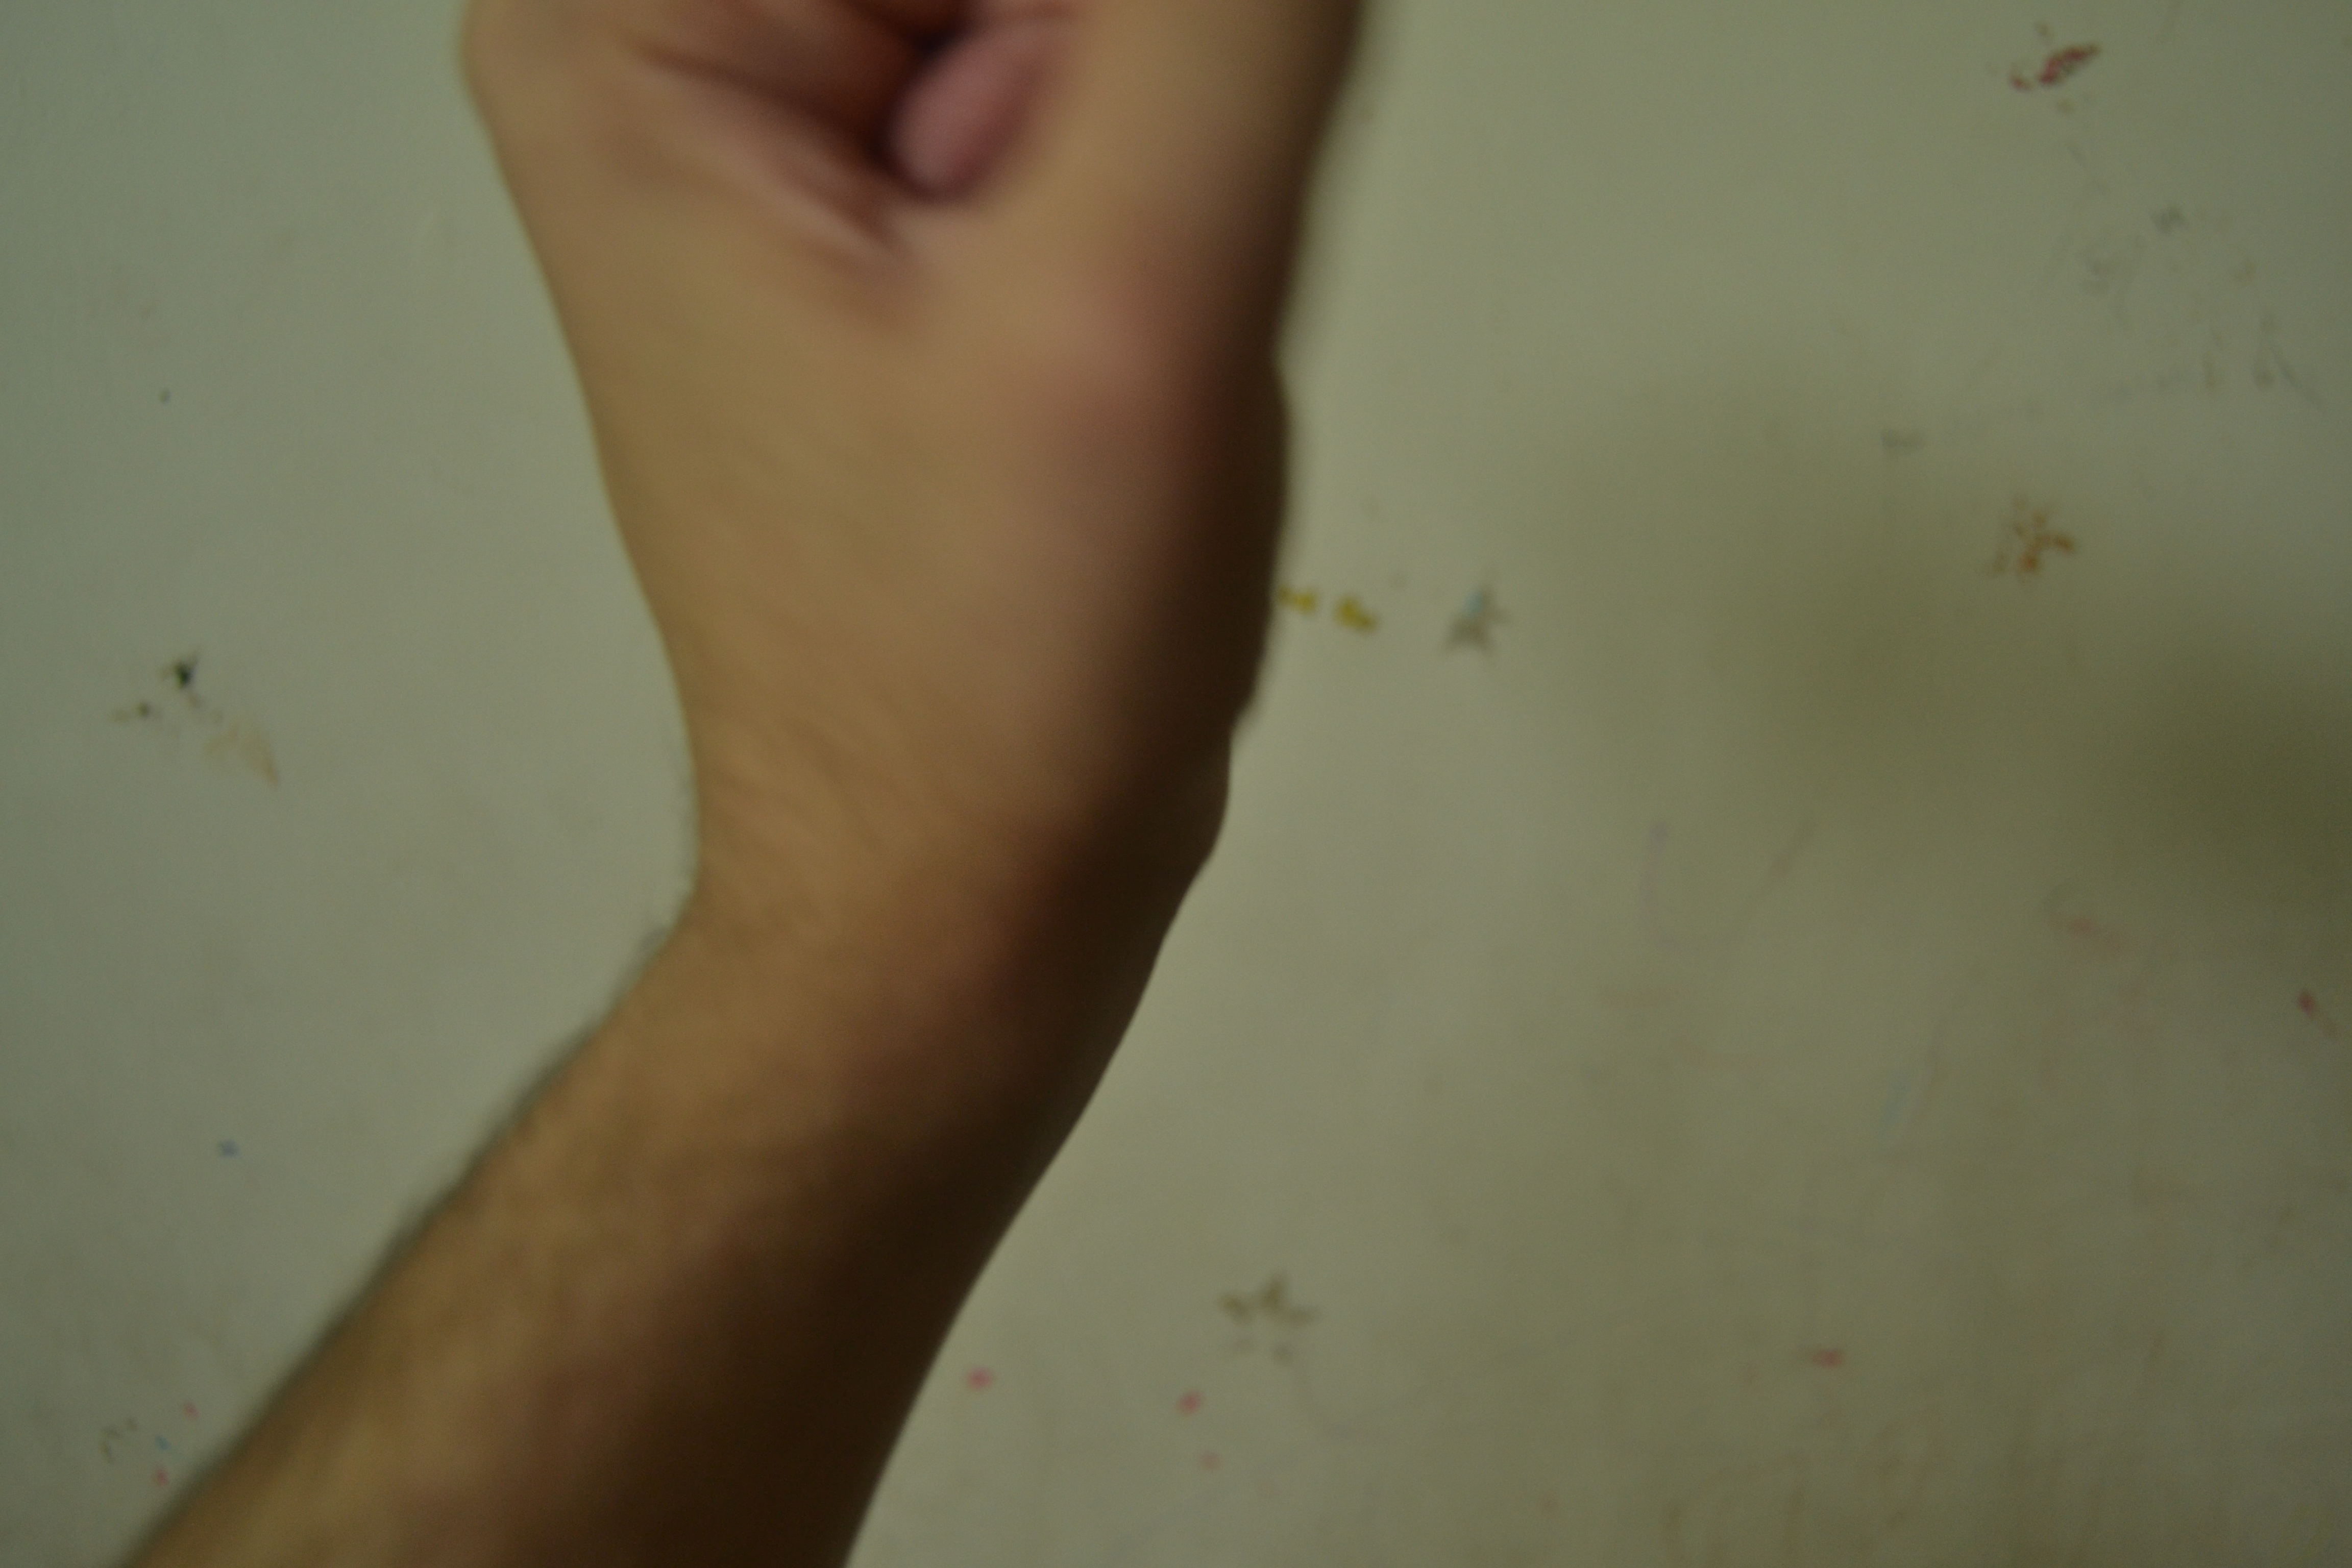click: (369, 12, 1493, 1020)
